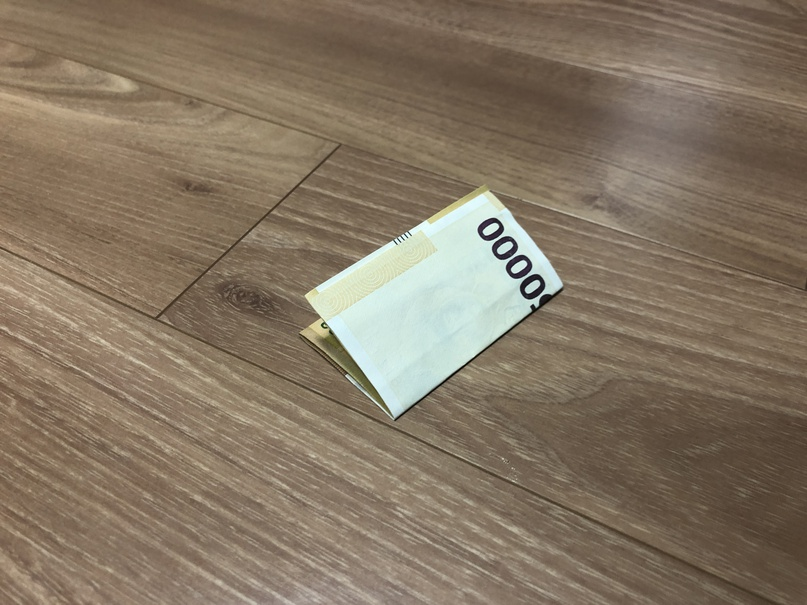50000won: (301, 185, 567, 420)
